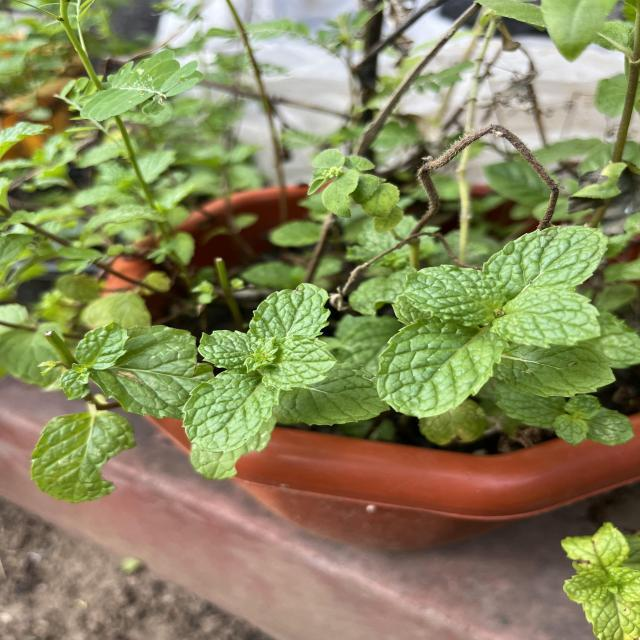Mentha spicata: (374, 316, 510, 420), (481, 223, 611, 290), (181, 372, 280, 456), (491, 288, 604, 350), (404, 263, 504, 325), (248, 282, 332, 340), (258, 333, 338, 392)
